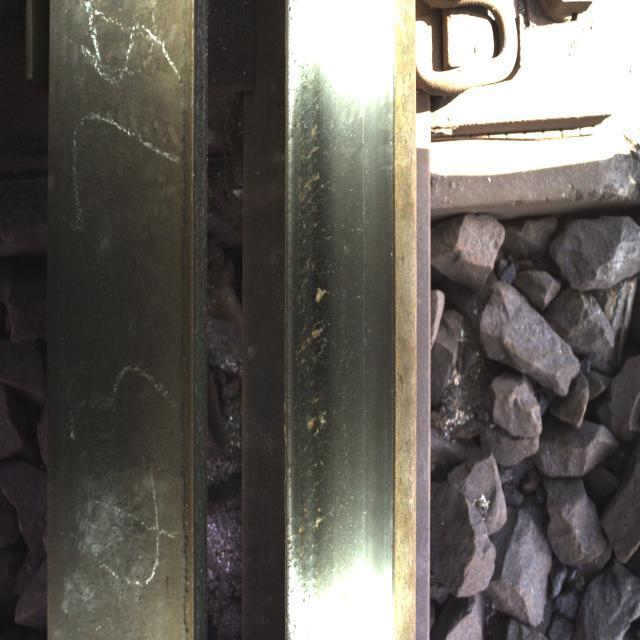scar: (289, 19, 359, 612)
